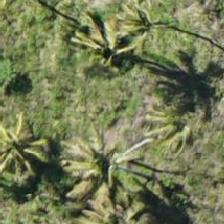coconut_tree: (57, 123, 147, 213), (55, 0, 145, 79), (0, 107, 60, 197)
